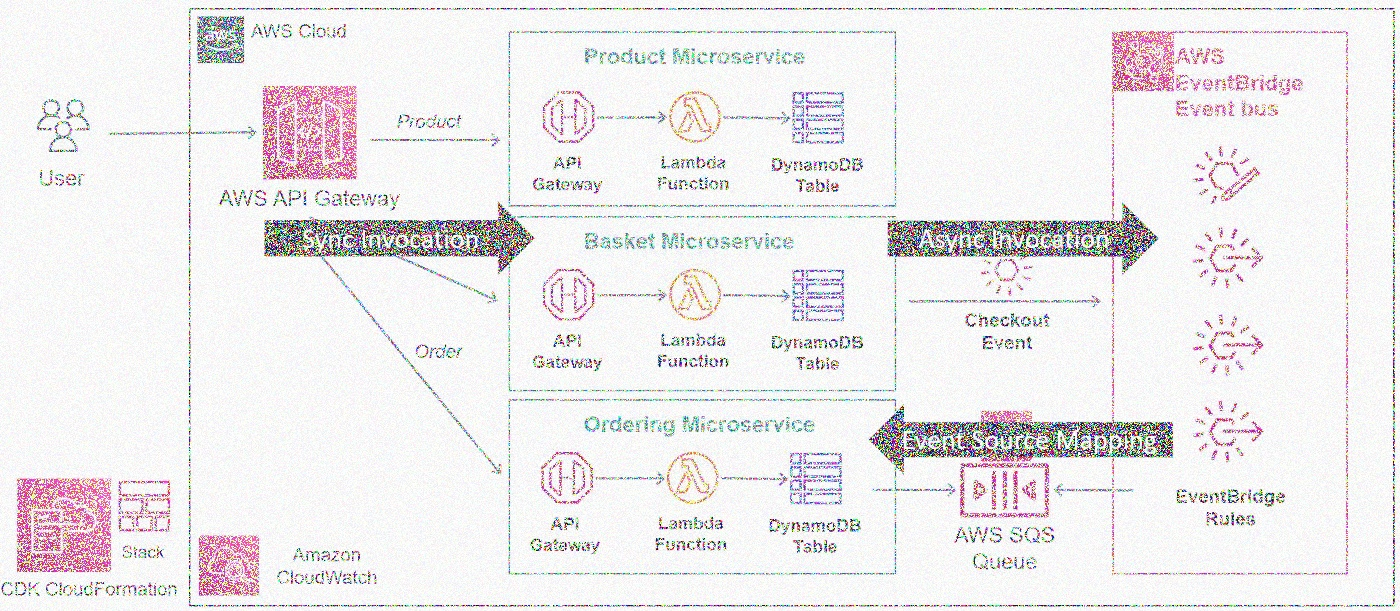API-Gateway: (257, 84, 363, 181), (536, 84, 599, 149), (536, 441, 598, 507), (537, 261, 600, 325)
Cloud Watch: (197, 534, 262, 596)
CloudFormation Stack: (14, 473, 112, 574)
Lambda: (662, 444, 721, 505), (666, 86, 725, 146), (669, 264, 725, 323)
Stack: (116, 474, 174, 537)
Table: (787, 81, 852, 154), (787, 259, 853, 329), (787, 445, 849, 510)
Users: (29, 86, 102, 156)
aws: (192, 11, 250, 68)
